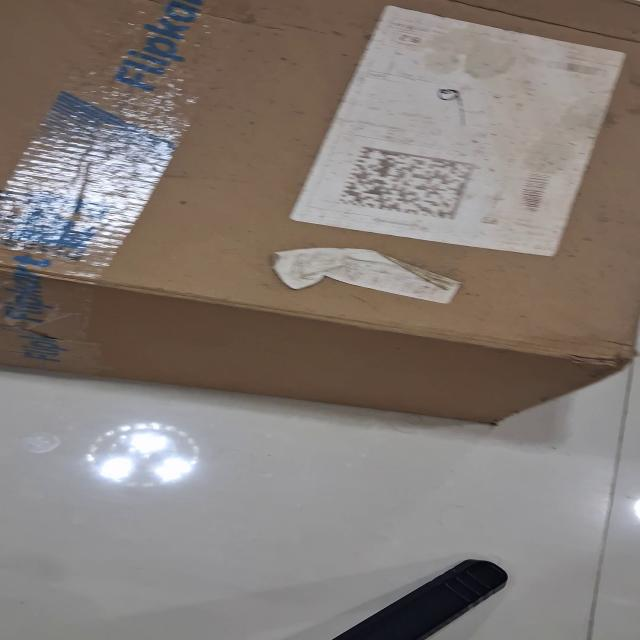paper: (287, 5, 627, 257), (270, 247, 462, 304)
